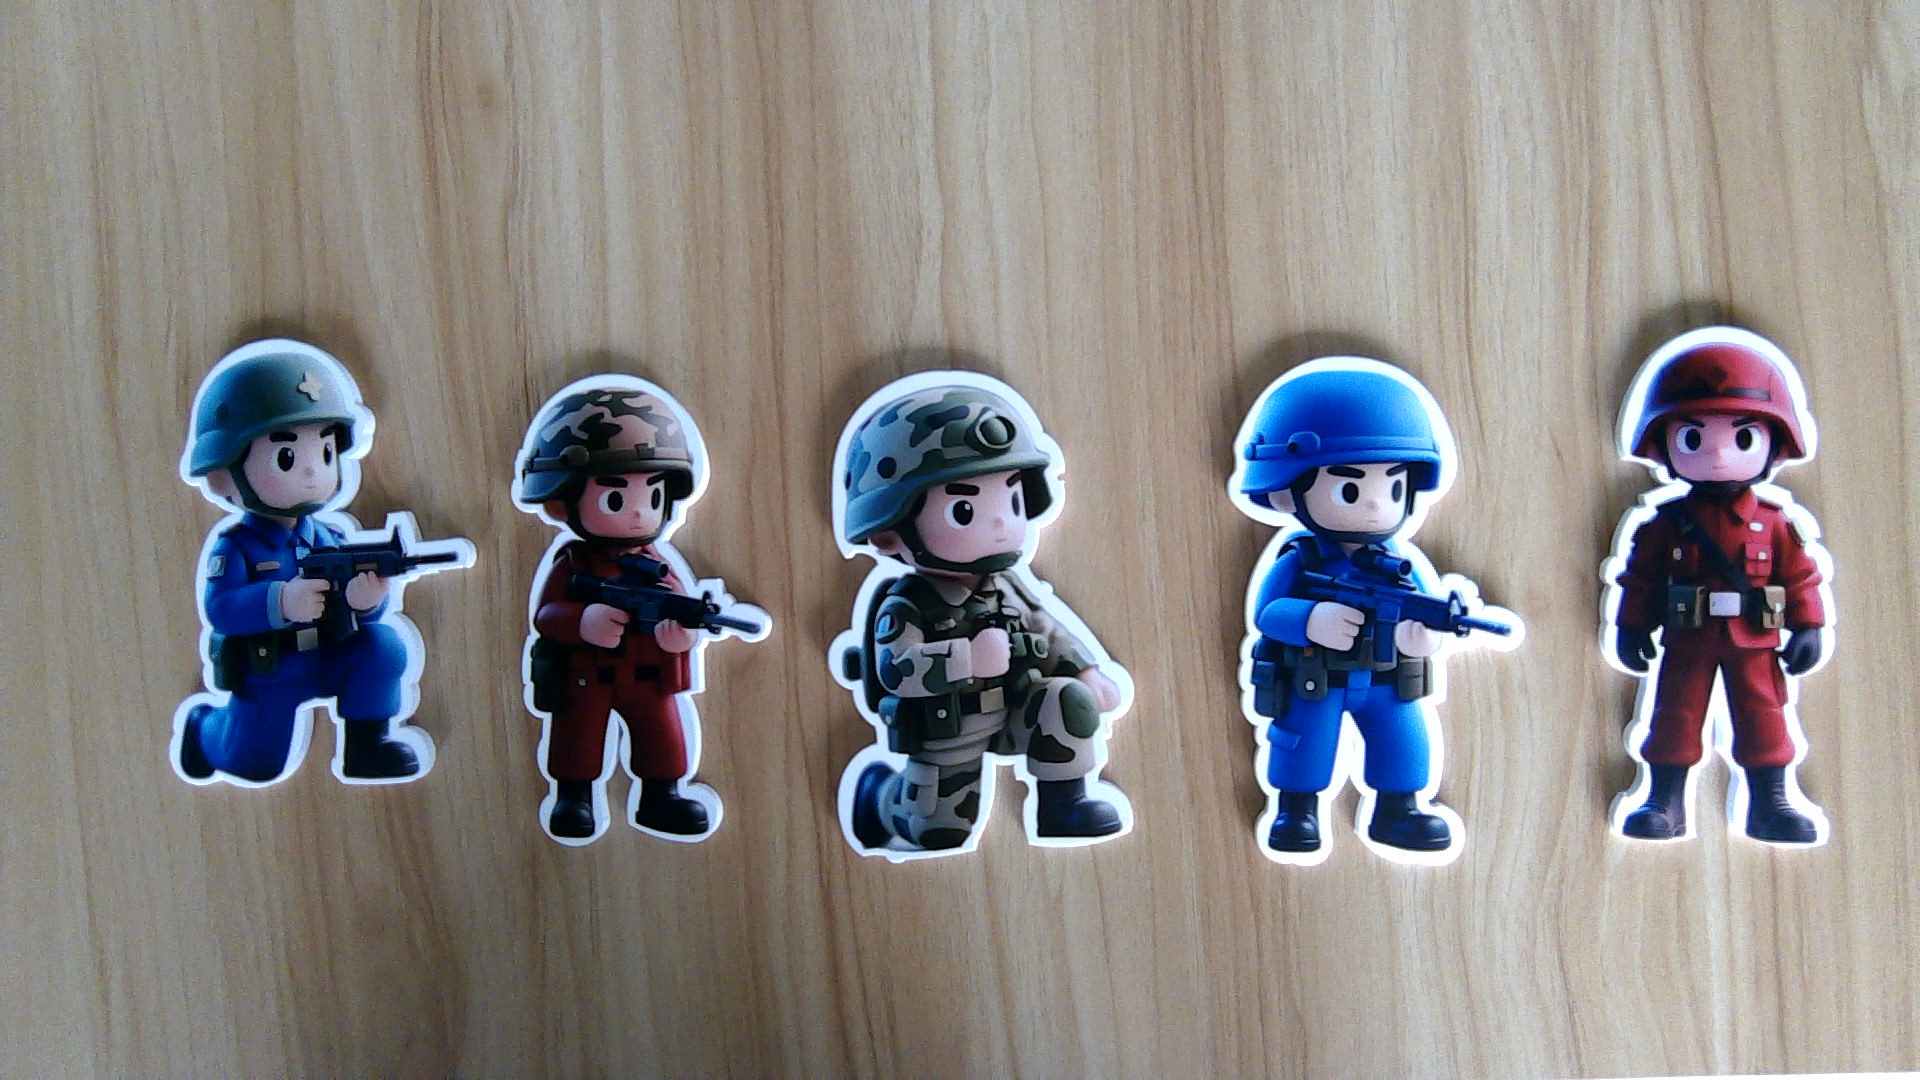友军: (822, 576, 1139, 855)
敌人1: (1589, 492, 1841, 849), (518, 546, 767, 847)
敌人2: (1236, 534, 1520, 870), (164, 520, 473, 798)
